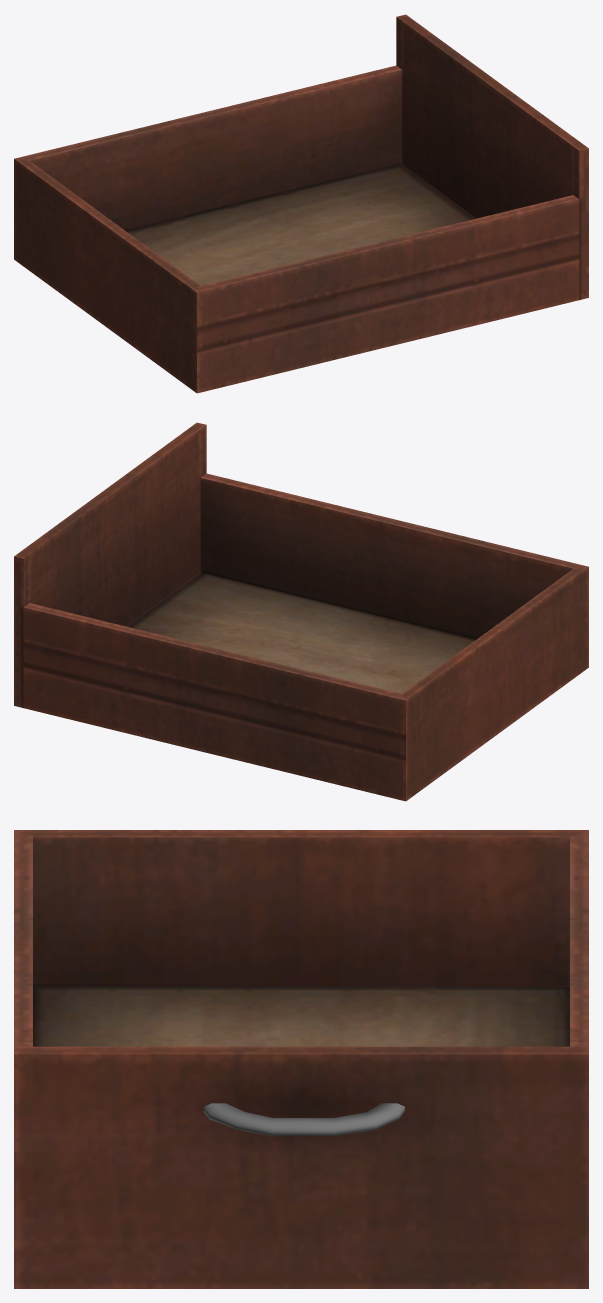
Rendered from desk_reception02_large_box.dae.
The picture shows the model from 3 angles, top to bottom: view 1: azimuth 30°, elevation 25°; view 2: azimuth 150°, elevation 25°; view 3: azimuth 270°, elevation 25°; orthographic projection. The views are drawn at different scales.
Visible parts, largest first — view 1: polySurface2; view 2: polySurface2; view 3: polySurface2.
Part boxes in pixels (<box>): polySurface2: <box>14,14,588,393</box>; polySurface2: <box>14,422,588,801</box>; polySurface2: <box>14,830,588,1288</box>.
Bounding box in the file's own units: 0.9842 × 0.3323 × 0.7378.
